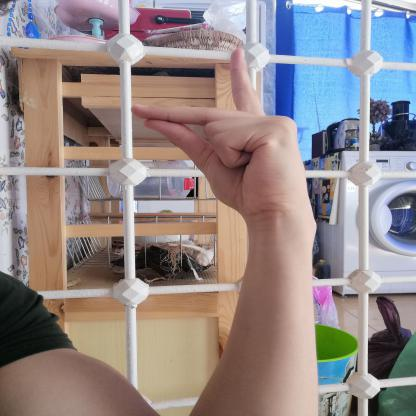TAA: (118, 38, 322, 226)
